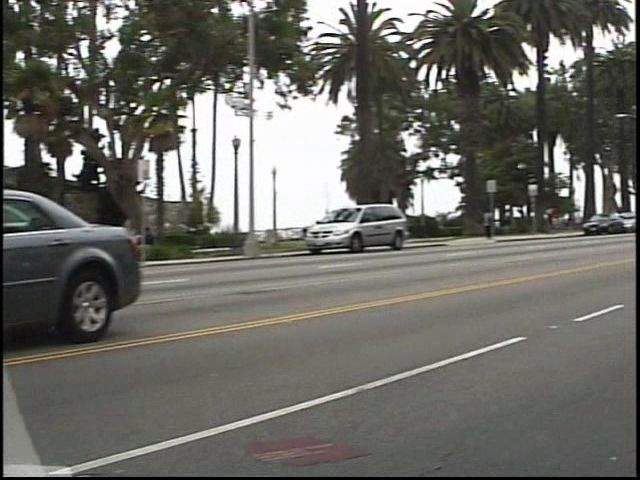person: (488, 201, 510, 241)
